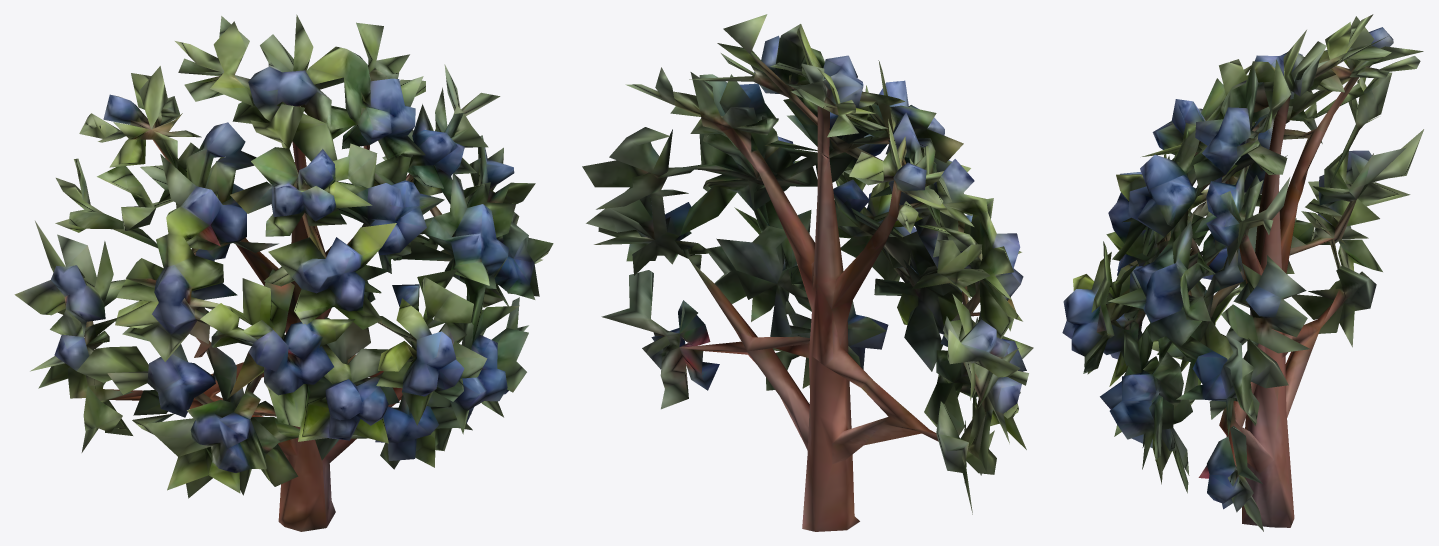
Rendered from bush.glb.
3 views of the same model, side by side, from view 1: azimuth 30°, elevation 25°; view 2: azimuth 150°, elevation 25°; view 3: azimuth 270°, elevation 25° (orthographic). The views are drawn at different scales.
Visible parts, largest first — view 1: tripo_node_5da950c0-2d19-40c4-9ba4-d4bfdb3382ce; view 2: tripo_node_5da950c0-2d19-40c4-9ba4-d4bfdb3382ce; view 3: tripo_node_5da950c0-2d19-40c4-9ba4-d4bfdb3382ce.
Part boxes in pixels (bbox=[...]): tripo_node_5da950c0-2d19-40c4-9ba4-d4bfdb3382ce: bbox=[14, 14, 553, 531]; tripo_node_5da950c0-2d19-40c4-9ba4-d4bfdb3382ce: bbox=[582, 14, 1033, 531]; tripo_node_5da950c0-2d19-40c4-9ba4-d4bfdb3382ce: bbox=[1062, 14, 1423, 531].
Bounding box in the file's own units: 1 × 0.9913 × 0.6543.
Materials: 1 (1 with a texture image).
